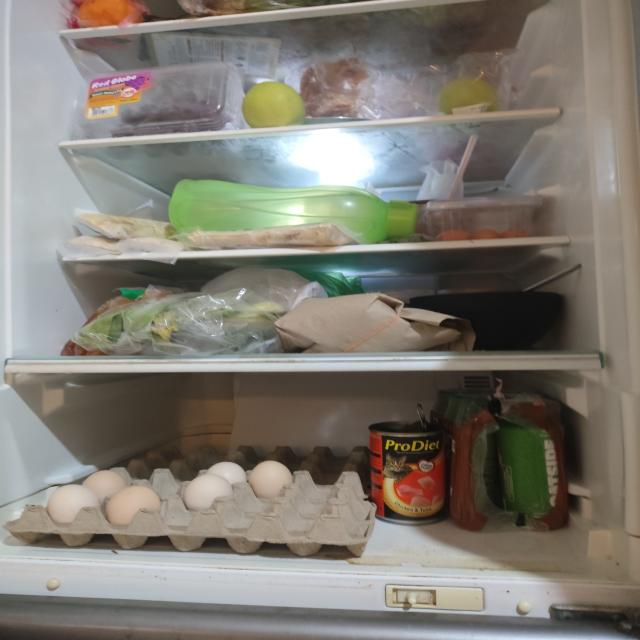apple: (242, 81, 305, 128), (439, 74, 500, 114)
egg: (6, 445, 378, 557)
leafy_greens: (82, 292, 286, 352)
orange: (78, 0, 145, 30)
tempeh: (188, 223, 362, 246), (68, 213, 180, 239)
